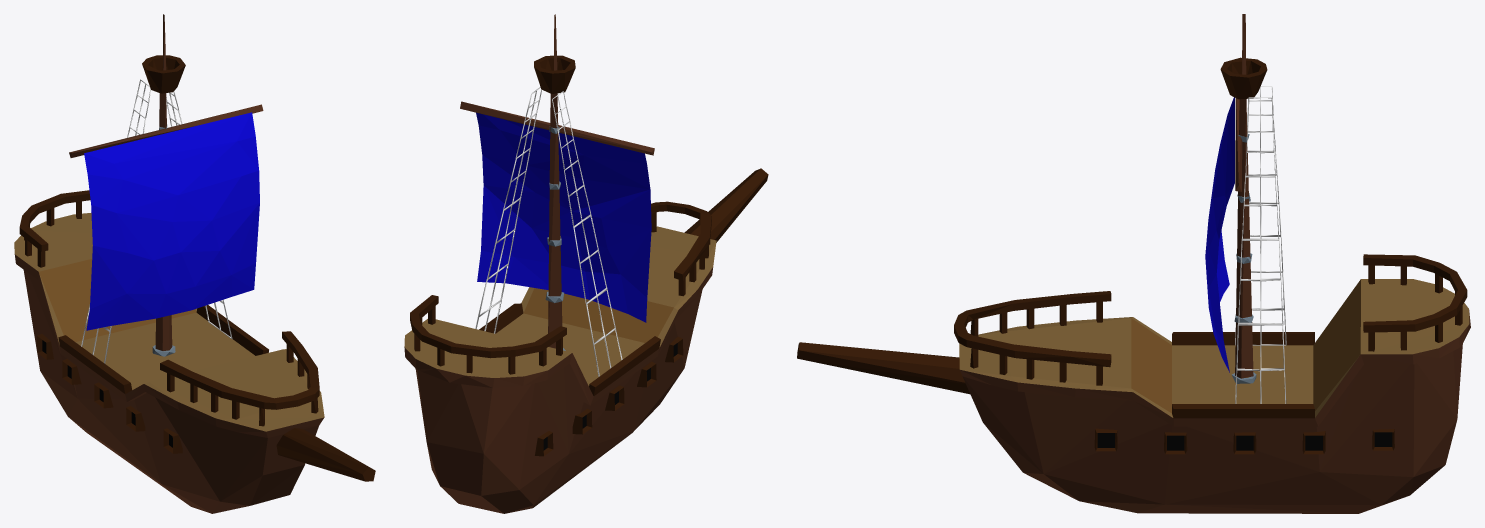
Rendered from SailShip.fbx.
3 renders of one model, left to right at view 1: azimuth 30°, elevation 25°; view 2: azimuth 150°, elevation 25°; view 3: azimuth 270°, elevation 25°, orthographic. The views are drawn at different scales.
Parts seen in each view (by area): view 1: Ship; view 2: Ship; view 3: Ship.
Part boxes in pixels (x1,y1,x2,y2): Ship: (14, 14, 375, 513); Ship: (404, 14, 768, 513); Ship: (797, 14, 1470, 513).
Bounding box in the file's own units: 828 × 2335 × 1874.
